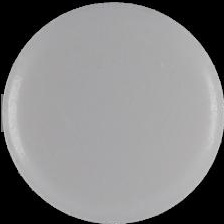65162-545: (0, 0, 224, 224)
